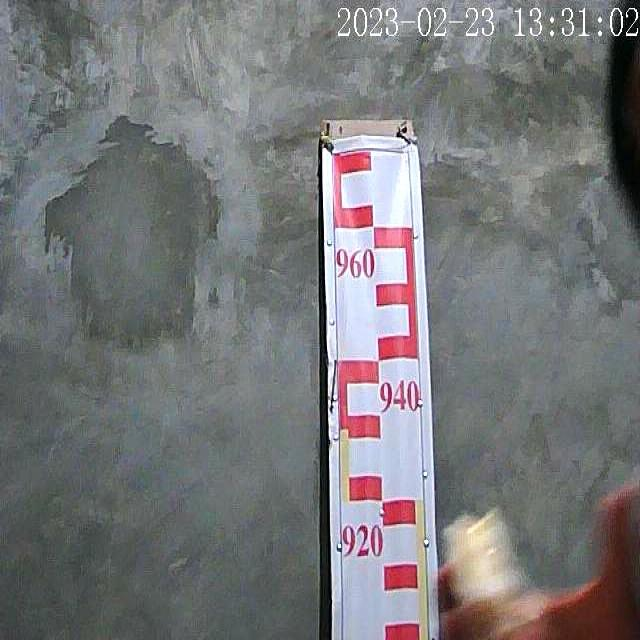ruler: (313, 117, 456, 640)
value: (338, 518, 384, 564), (375, 374, 423, 418), (335, 241, 377, 287)
